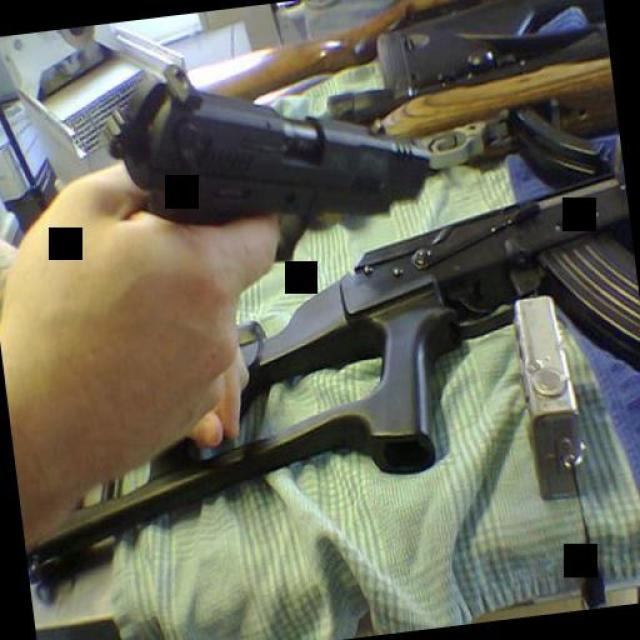gun: (84, 32, 440, 276)
